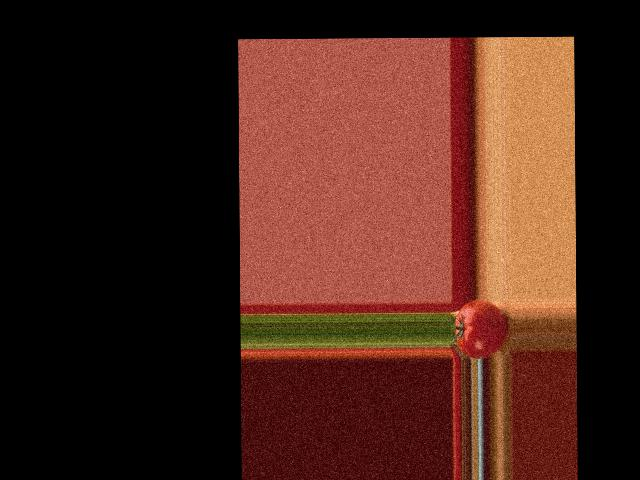tomato: (454, 299, 506, 358)
